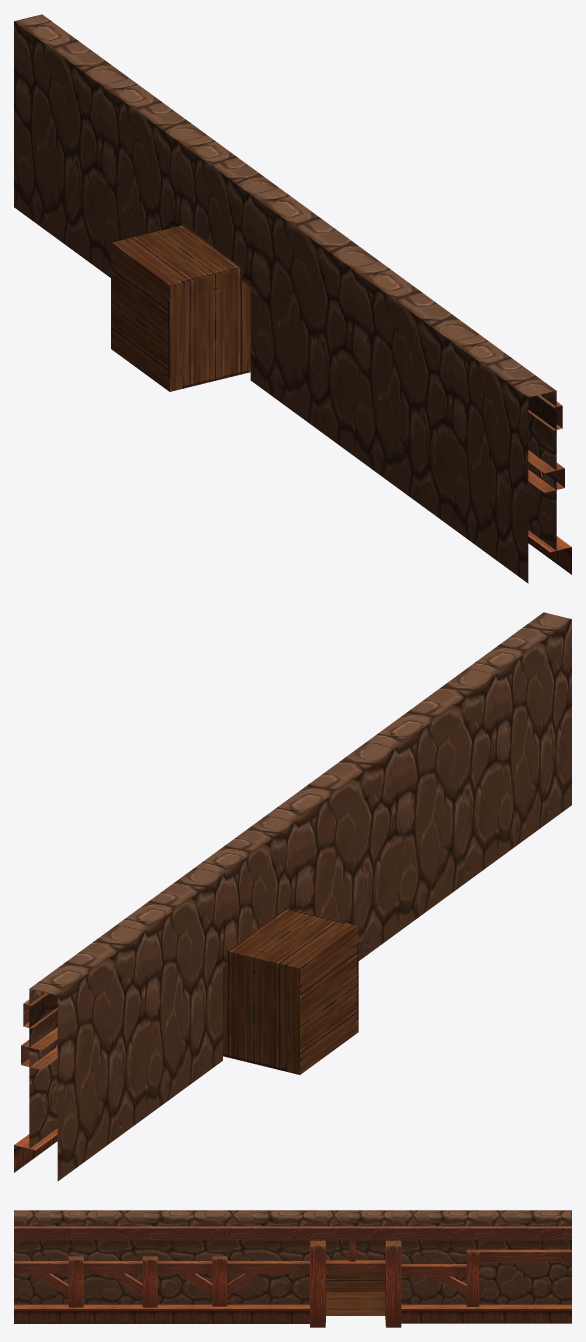
File: Qiang01.FBX
3 renders of one model, top to bottom at view 1: azimuth 30°, elevation 25°; view 2: azimuth 150°, elevation 25°; view 3: azimuth 270°, elevation 25°, orthographic. The views are drawn at different scales.
Visible parts, largest first — view 1: 对象111; view 2: 对象111; view 3: 对象111.
Boxes of the visible parts, left/top/right/bottom form: 对象111: left=14, top=14, right=571, bottom=583; 对象111: left=14, top=612, right=571, bottom=1181; 对象111: left=14, top=1210, right=571, bottom=1327.
Bounding box in the file's own units: 238 × 355 × 1723.
